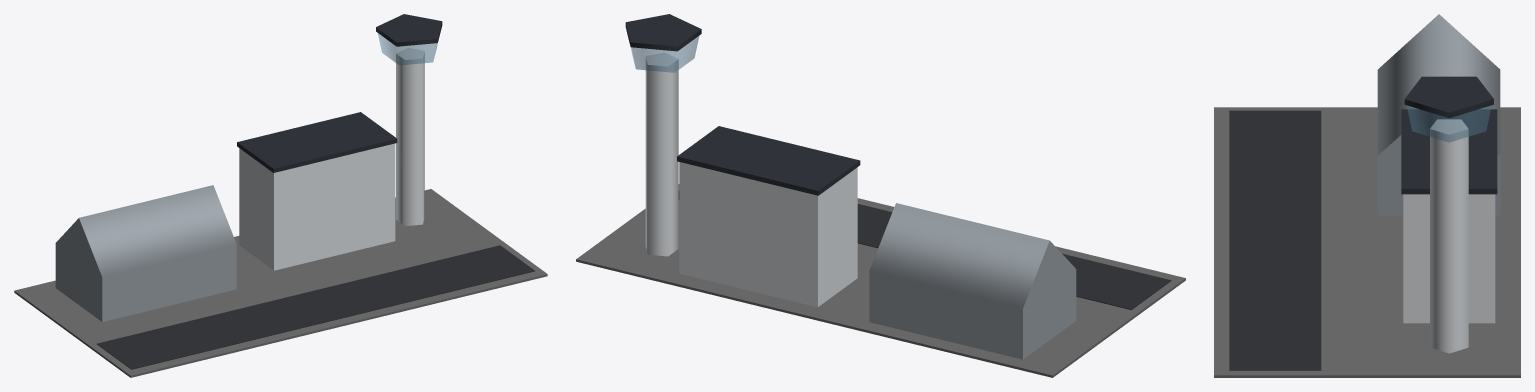
File: bld_special_airport_a08_lod2.glb
The picture shows the model from 3 angles, left to right: view 1: azimuth 30°, elevation 25°; view 2: azimuth 150°, elevation 25°; view 3: azimuth 270°, elevation 25°; orthographic projection. The views are drawn at different scales.
Visible parts, largest first — view 1: body; view 2: body; view 3: body.
Part boxes in pixels (x1=…): body: x1=14, y1=14, x2=547, y2=377; body: x1=576, y1=14, x2=1185, y2=377; body: x1=1214, y1=14, x2=1520, y2=377.
Bounding box in the file's own units: 31 × 13.75 × 15.
